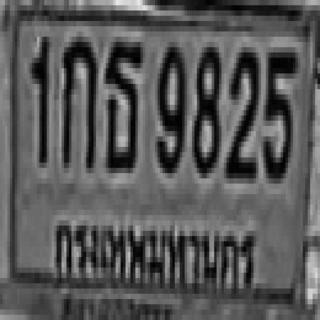A01: (62, 34, 94, 165)
A24: (103, 37, 140, 168)
N01: (30, 31, 47, 163)
N02: (225, 45, 257, 176)
N05: (261, 47, 296, 178)
N08: (192, 42, 219, 173)
N09: (155, 42, 185, 168)
P04: (48, 209, 261, 305)
